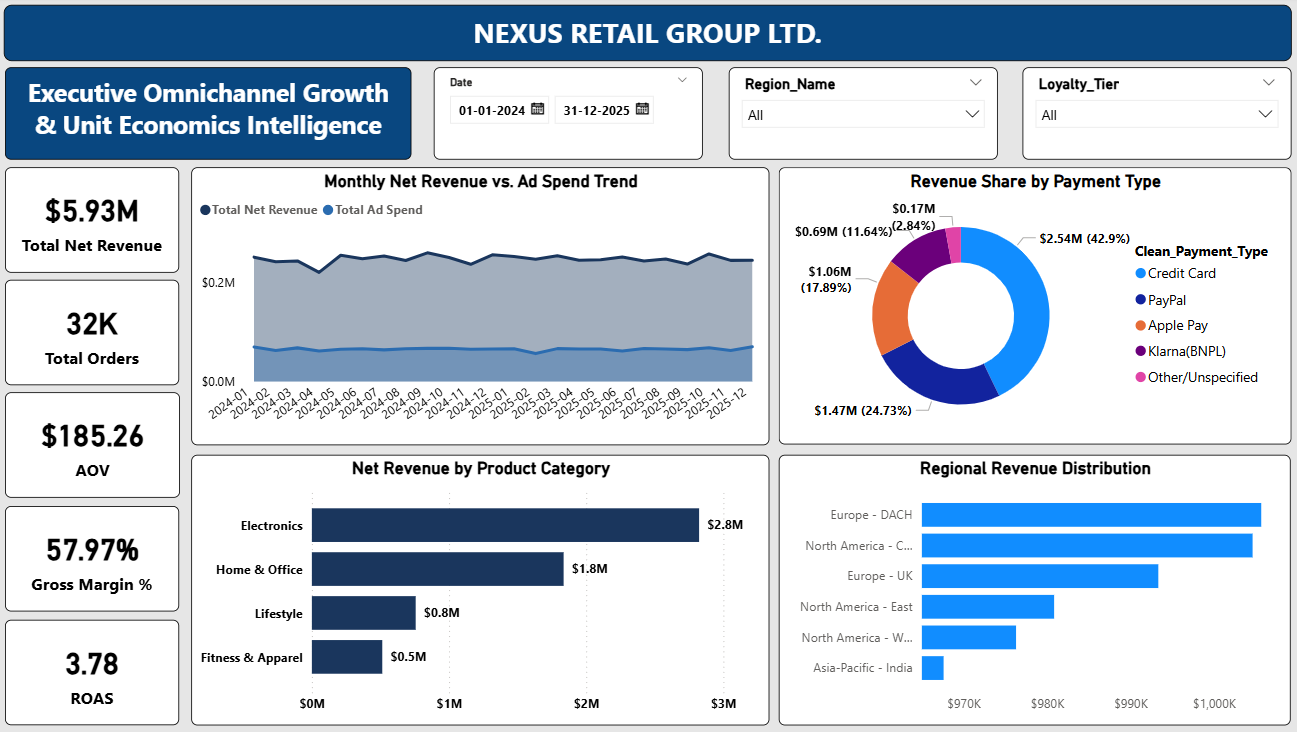

What the dashboard file says about the page in this screenshot:
{"tool":"powerbi","page":{"name":"Product Profitability & Basket Intelligence","canvas":[1280,720],"ordinal":0},"visuals":[{"type":"textbox","box":[9,8,1260,55],"z":0},{"type":"textbox","box":[9.6,70,397.9,90.6],"z":1000},{"type":"slicer","fields":{"Values":["Dim_Date.Date"]},"box":[429.5,70,263.5,90.6],"z":2000},{"type":"slicer","fields":{"Values":["Dim_Regions.Region_Name"]},"box":[717.7,70,263.5,90.6],"z":3000},{"type":"slicer","fields":{"Values":["Dim_Customer.Loyalty_Tier"]},"box":[1005.2,69.7,262.9,90.5],"z":4000},{"type":"card","fields":{"Values":["Measures (2).Total Net Revenue"]},"box":[9.6,167.4,170.2,102.9],"z":5000},{"type":"card","fields":{"Values":["Measures (2).Total Orders"]},"box":[9.6,278,170.2,102.9],"z":6000},{"type":"card","fields":{"Values":["Measures (2).AOV"]},"box":[9.6,388,171.5,102.9],"z":7000},{"type":"card","fields":{"Values":["Measures (2).Gross Margin %"]},"box":[9.6,499.5,170.2,102.9],"z":8000},{"type":"card","fields":{"Values":["Measures (2).ROAS"]},"box":[9.6,610.6,170.2,102.9],"z":9000},{"type":"areaChart","title":"Monthly Net Revenue vs. Ad Spend Trend","fields":{"Category":["Dim_Date.Year_Month"],"Y":["Measures (2).Total Net Revenue","Measures (2).Total Ad Spend"]},"box":[192.1,167.4,565.4,271.7],"z":10000},{"type":"clusteredBarChart","title":"Net Revenue by Product Category","fields":{"Category":["Dim_Products.Clean_Category"],"Y":["Measures (2).Line Net Revenue"]},"box":[192.1,448.7,565.4,264.8],"z":11000},{"type":"donutChart","title":"Revenue Share by Payment Type","fields":{"Category":["Fact_Orders.Clean_Payment_Type"],"Y":["Measures (2).Total Net Revenue"]},"box":[766.7,167.5,501.4,271.5],"z":12000},{"type":"clusteredBarChart","title":"Regional Revenue Distribution","fields":{"Category":["Dim_Regions.Region_Name"],"Y":["Measures (2).Total Net Revenue"]},"box":[767,449,501,265],"z":13000}]}

Visuals, with their boxes in screenshot pixels (x1, y1, x2, y2), scaled from the page's 1280x720 canvas onto the 1297x732 screenshot:
textbox: crop(9, 8, 1286, 64)
textbox: crop(10, 71, 413, 163)
slicer - Dim_Date.Date: crop(435, 71, 702, 163)
slicer - Dim_Regions.Region_Name: crop(727, 71, 994, 163)
slicer - Dim_Customer.Loyalty_Tier: crop(1019, 71, 1285, 163)
card - Measures (2).Total Net Revenue: crop(10, 170, 182, 275)
card - Measures (2).Total Orders: crop(10, 283, 182, 387)
card - Measures (2).AOV: crop(10, 394, 184, 499)
card - Measures (2).Gross Margin %: crop(10, 508, 182, 612)
card - Measures (2).ROAS: crop(10, 621, 182, 725)
"Monthly Net Revenue vs. Ad Spend Trend" areaChart: crop(195, 170, 768, 446)
"Net Revenue by Product Category" clusteredBarChart: crop(195, 456, 768, 725)
"Revenue Share by Payment Type" donutChart: crop(777, 170, 1285, 446)
"Regional Revenue Distribution" clusteredBarChart: crop(777, 456, 1285, 726)
